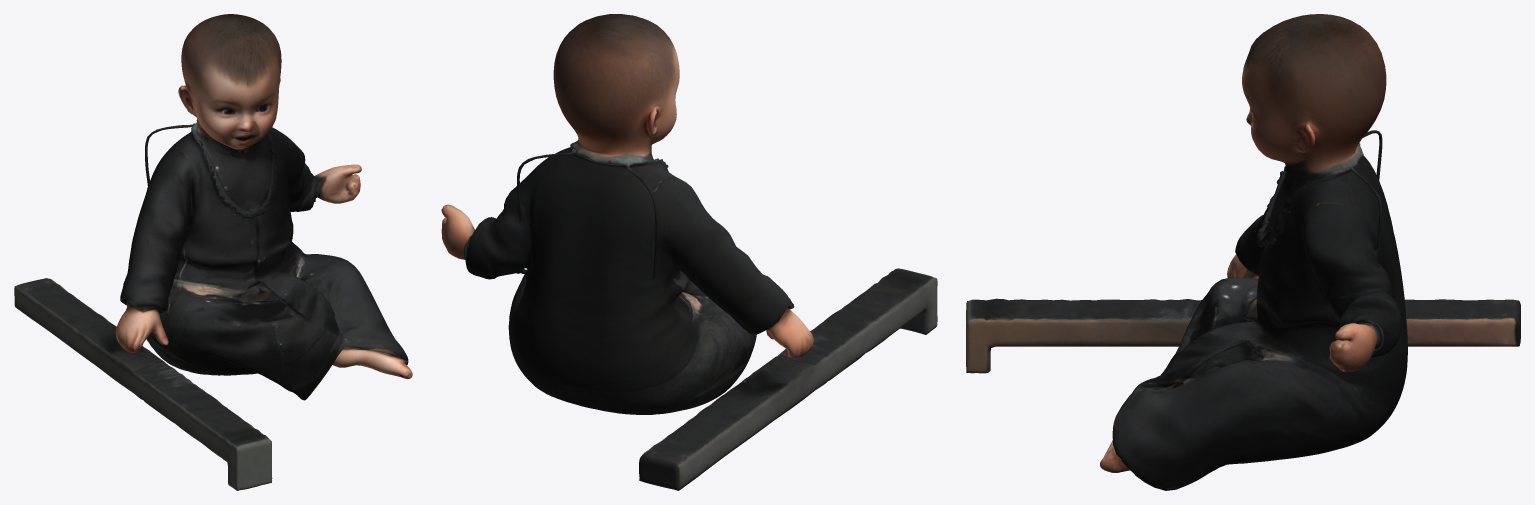
File: ansh.glb
3 views of the same model, side by side, from view 1: azimuth 30°, elevation 25°; view 2: azimuth 150°, elevation 25°; view 3: azimuth 270°, elevation 25° (orthographic). The views are drawn at different scales.
Bounding box in the file's own units: 1.44 × 1.65 × 2.
1 material, 1 textured.
